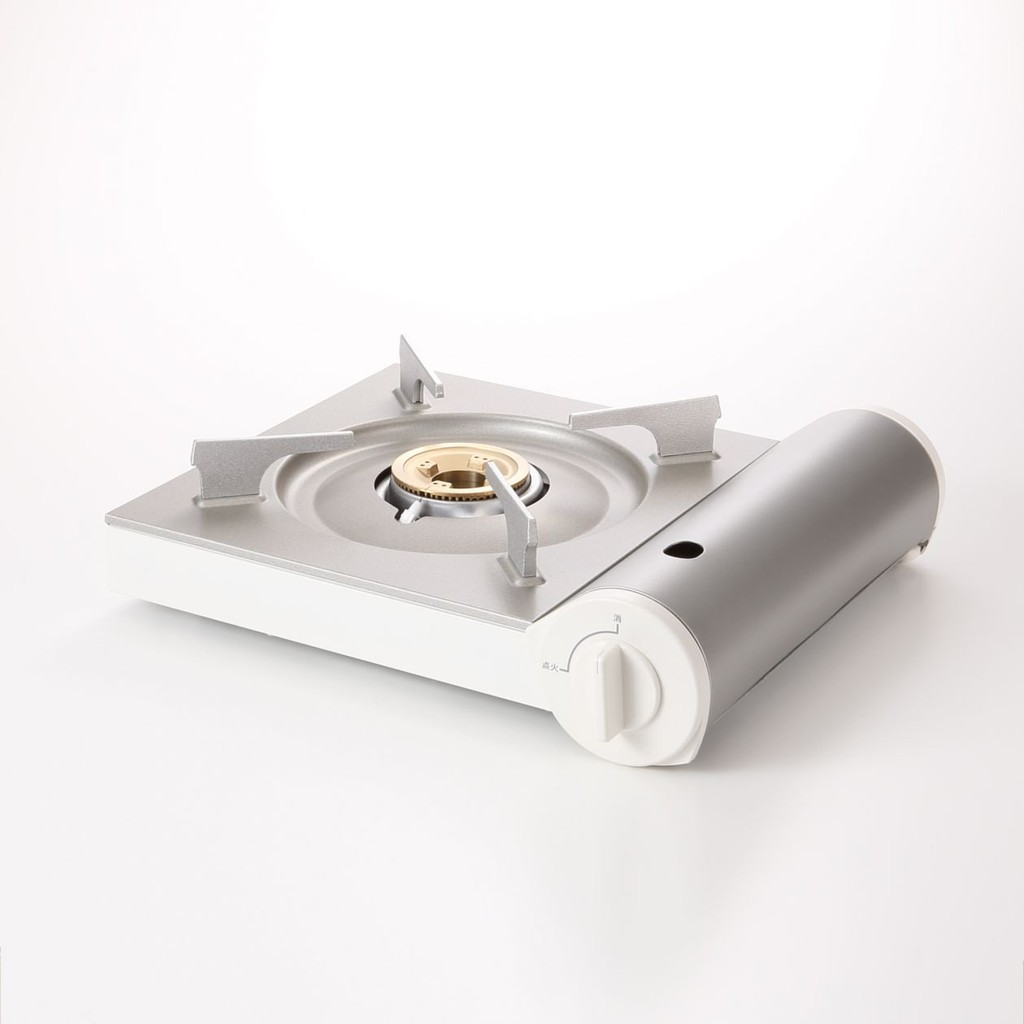gasoven: (95, 322, 955, 774)
